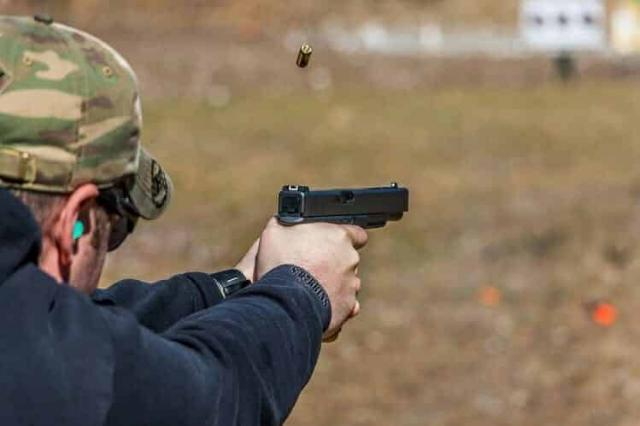handgun: (274, 176, 414, 262)
